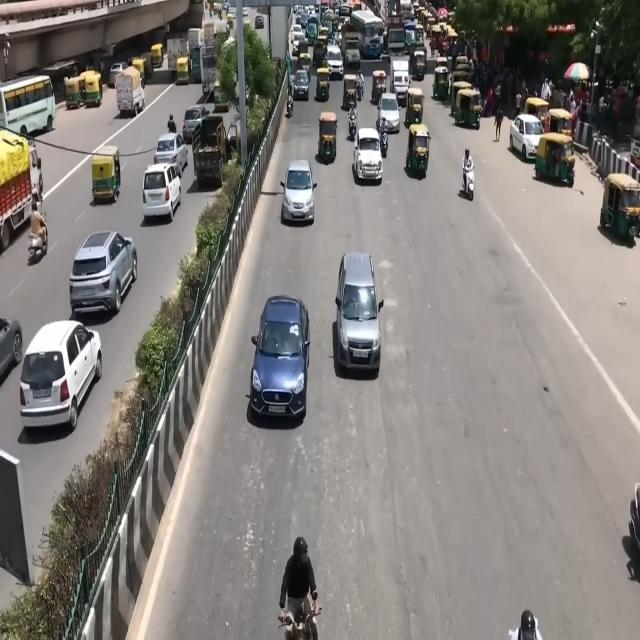auto: (600, 175, 640, 243), (534, 132, 575, 186), (90, 145, 122, 203), (405, 123, 430, 179), (318, 112, 338, 162), (405, 87, 425, 128), (64, 74, 85, 109), (409, 46, 427, 82), (343, 72, 359, 111), (371, 67, 387, 105), (315, 66, 331, 102), (469, 95, 484, 128), (131, 58, 147, 86), (176, 56, 190, 86), (298, 52, 312, 78), (150, 43, 164, 68)
bike-auto: (462, 148, 474, 199), (379, 118, 388, 154), (348, 104, 357, 140), (285, 91, 294, 118), (356, 73, 364, 101), (167, 114, 176, 134)
